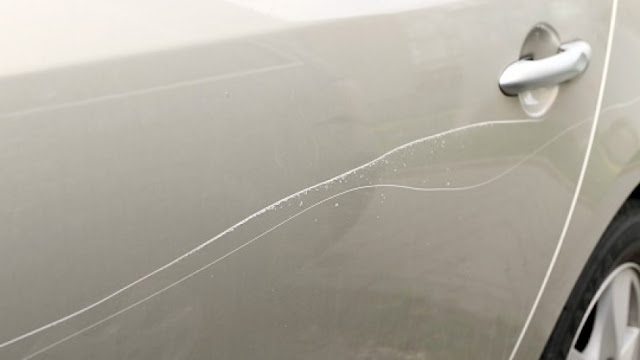scratch: (0, 285, 552, 360)
